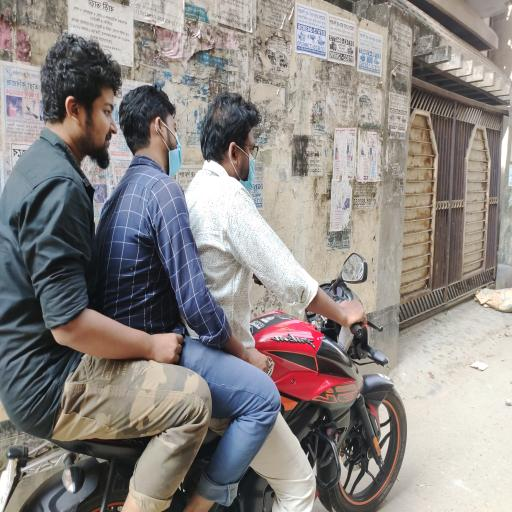helmet: (154, 118, 182, 178)
overloading: (2, 29, 399, 509)
